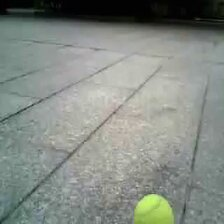tennis: (133, 193, 173, 224)
